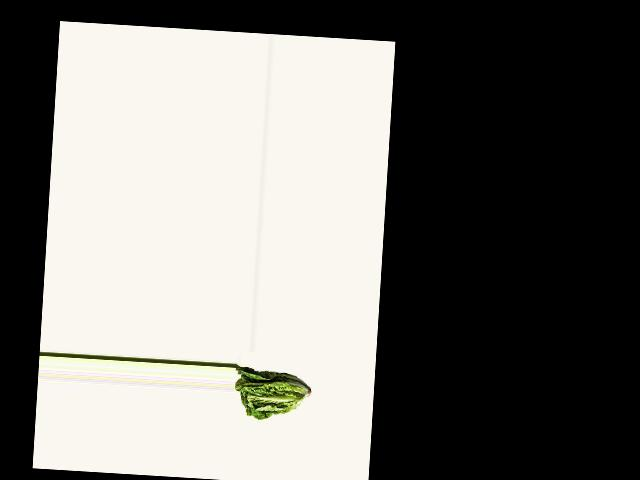lettuce: (233, 366, 310, 425)
